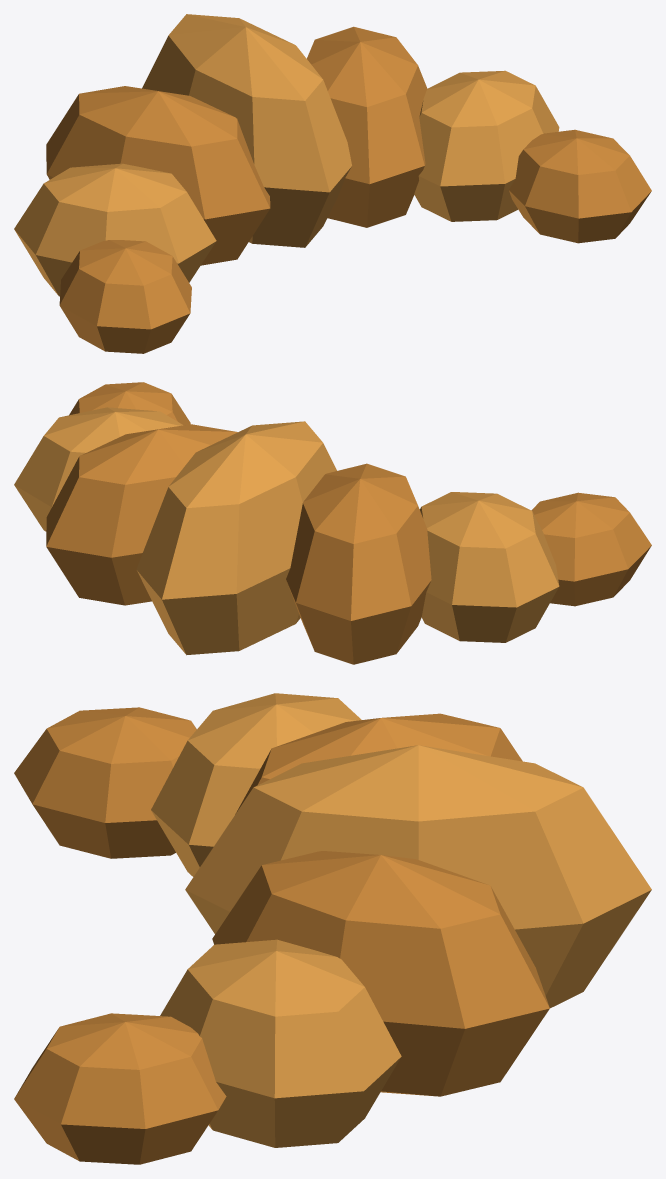
Rendered from Food_Croissant.obj.
The picture shows the model from 3 angles, top to bottom: view 1: azimuth 30°, elevation 25°; view 2: azimuth 150°, elevation 25°; view 3: azimuth 270°, elevation 25°; orthographic projection. The views are drawn at different scales.
Bounding box in the file's own units: 3.21 × 1.12 × 2.24.
